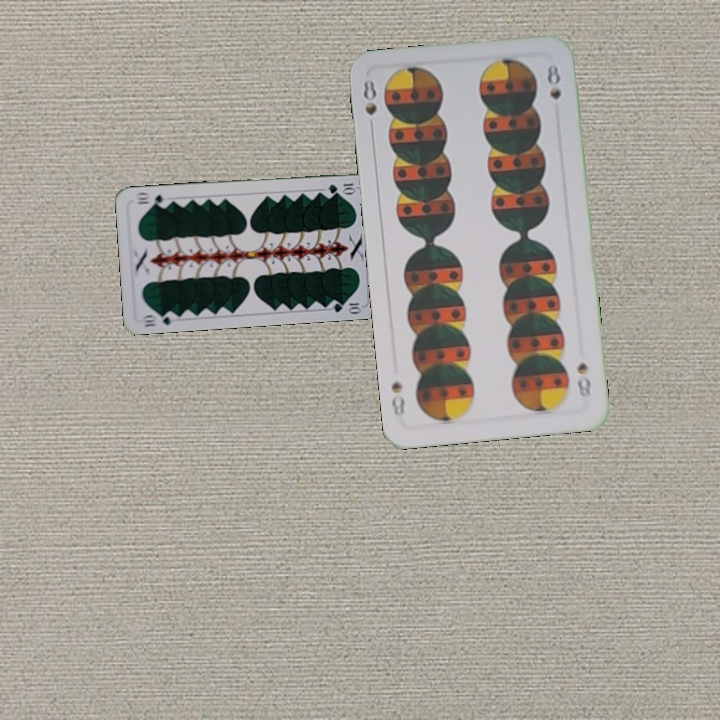G10: (138, 308, 178, 330), (324, 179, 358, 196)
S8: (359, 76, 379, 135), (573, 358, 593, 400)
